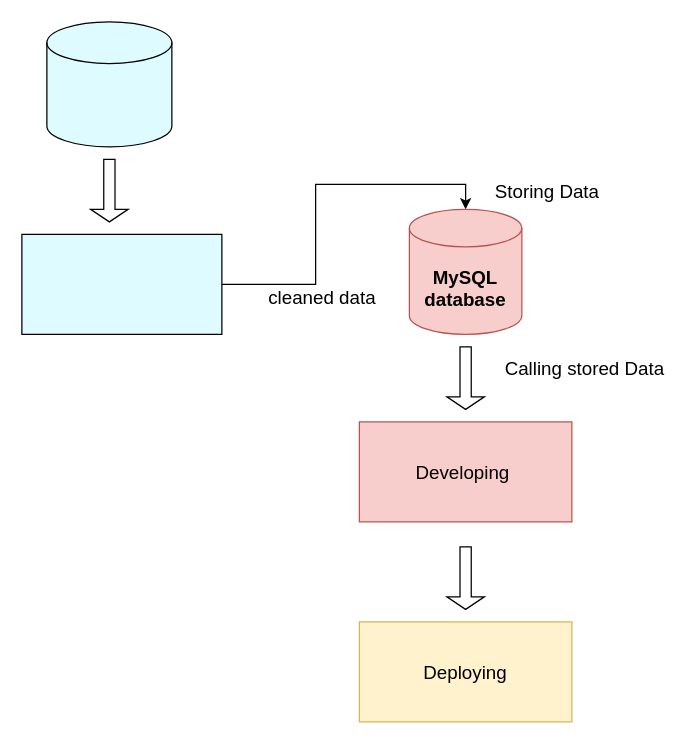
Some shapes in this 694 by 744 pixel diagram are drawn without their labels. The centre of each missing label's shape, as x and y in pixels:
"Collecting and EDA" belongs at (x=121, y=283).
"Twitter Api" belongs at (x=109, y=84).
